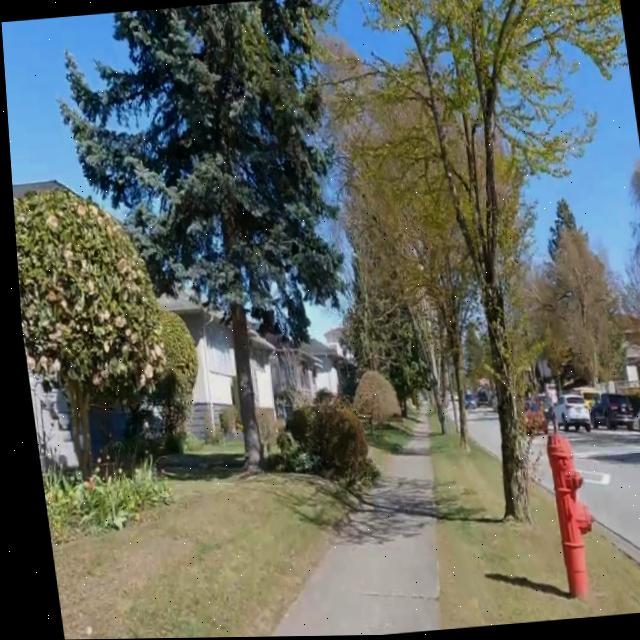Automobile: (584, 395, 627, 429), (547, 394, 583, 434), (516, 413, 537, 437), (631, 404, 640, 437), (458, 392, 468, 409)
Road: (560, 430, 640, 555), (465, 417, 491, 457)
Sidewalk: (259, 425, 431, 637)
